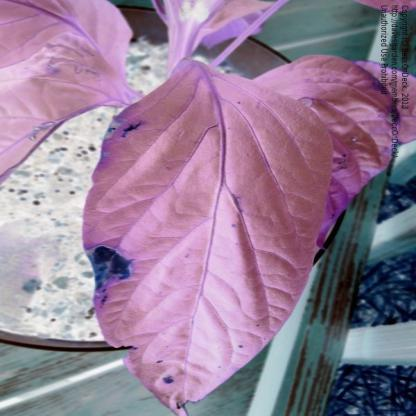bell pepper leaf: (74, 61, 415, 255)
